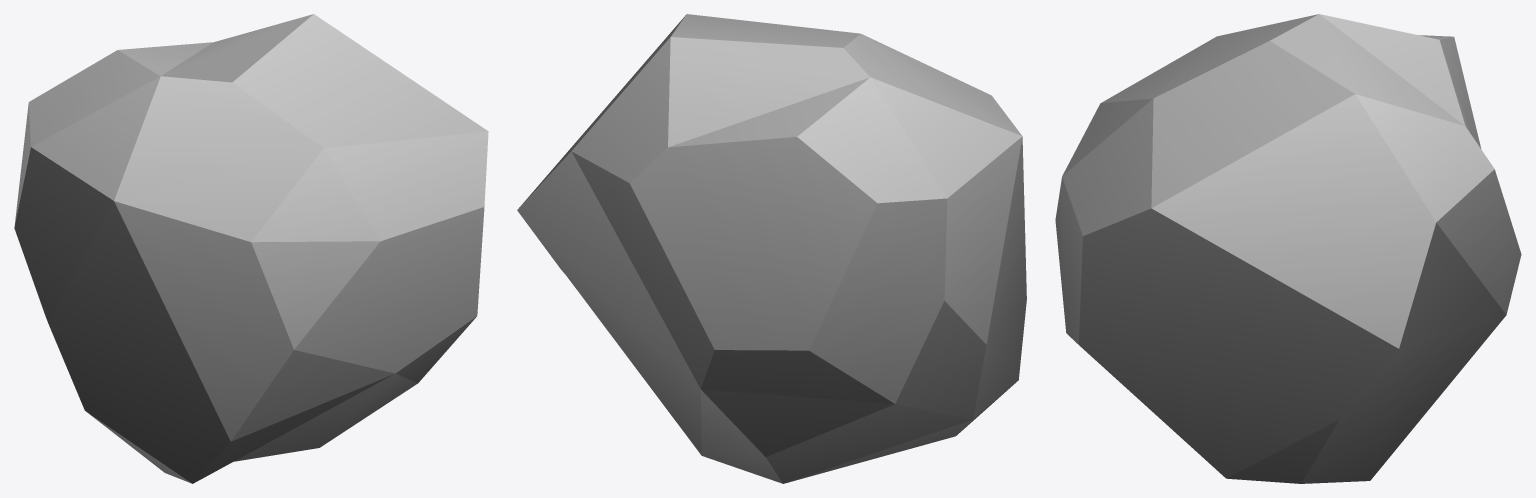
File: Rock_11.fbx
3 views of the same model, side by side, from view 1: azimuth 30°, elevation 25°; view 2: azimuth 150°, elevation 25°; view 3: azimuth 270°, elevation 25° (orthographic). The views are drawn at different scales.
Parts seen in each view (by area): view 1: Icosphere.003; view 2: Icosphere.003; view 3: Icosphere.003.
Boxes of the visible parts, x1,y1,x2,y2 form: Icosphere.003: (14, 14, 488, 483); Icosphere.003: (517, 14, 1026, 483); Icosphere.003: (1055, 14, 1521, 483).
Bounding box in the file's own units: 185 × 171 × 172.
